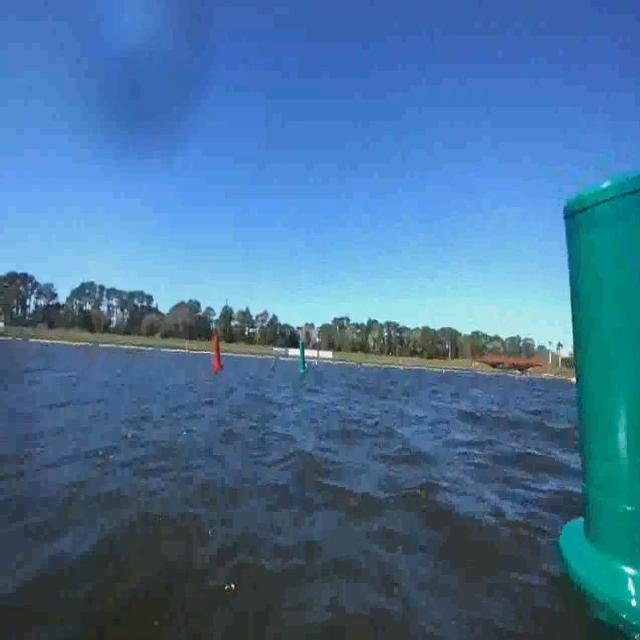green-column-buoy: (541, 164, 635, 623), (296, 330, 307, 378)
red-column-buoy: (210, 328, 225, 382)
